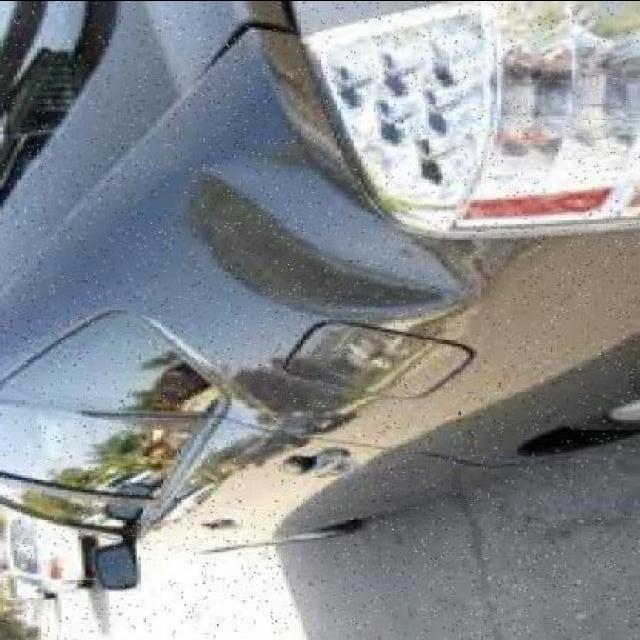quaterpanel-dent: (166, 139, 636, 429)
